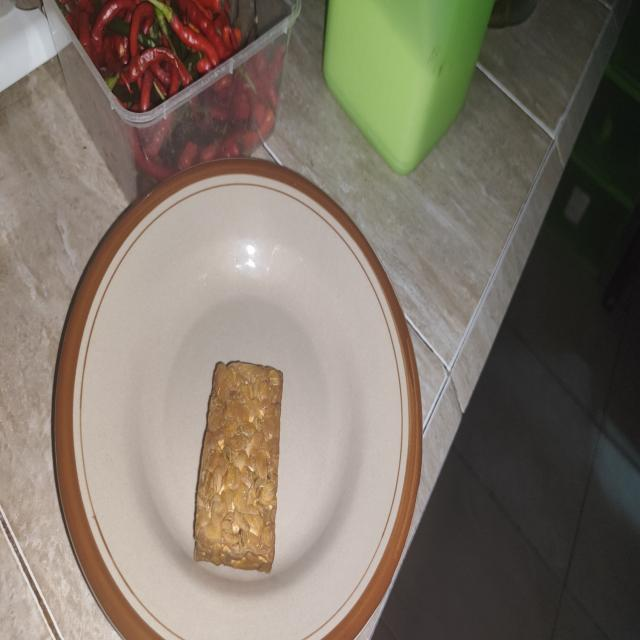tempe_goreng: (194, 362, 283, 572)
